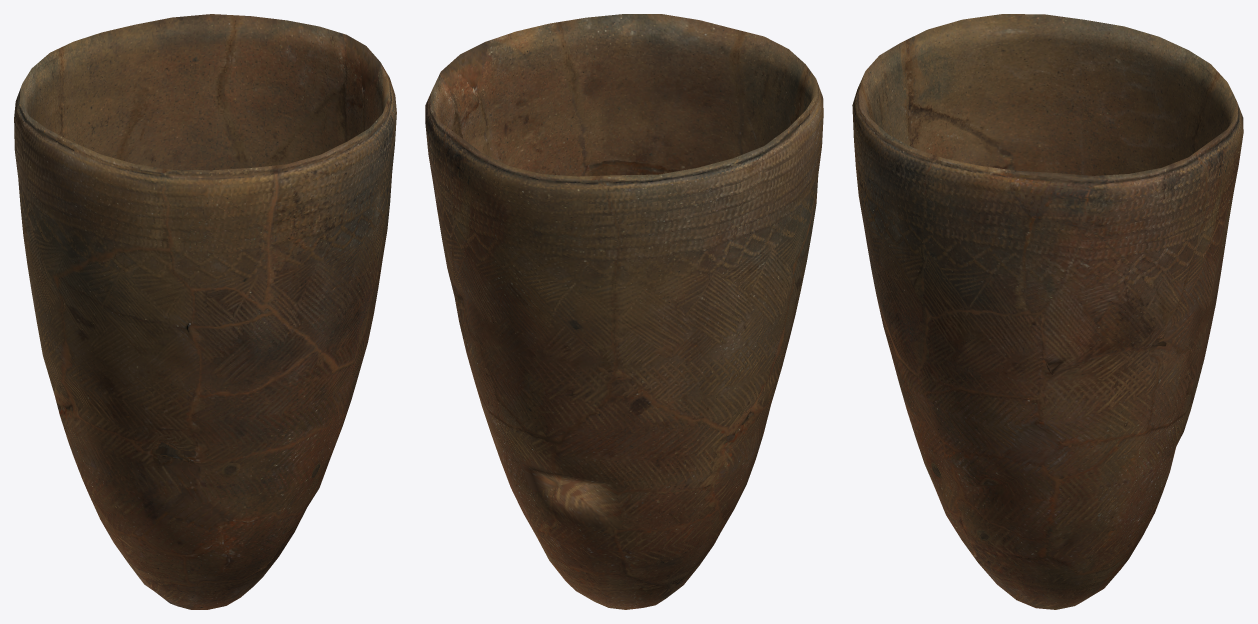
The model's file is Comb-pattern.fbx.
The picture shows the model from 3 angles, left to right: view 1: azimuth 30°, elevation 25°; view 2: azimuth 150°, elevation 25°; view 3: azimuth 270°, elevation 25°; orthographic projection.
Visible parts, largest first — view 1: comb pattern; view 2: comb pattern; view 3: comb pattern.
Boxes of the visible parts, x1,y1,x2,y2 form: comb pattern: (14,14,396,609); comb pattern: (425,14,823,609); comb pattern: (852,14,1243,609).
Size of the model in its own units: 26.19 by 37.98 by 26.3.
Materials: 1 (1 with a texture image).
